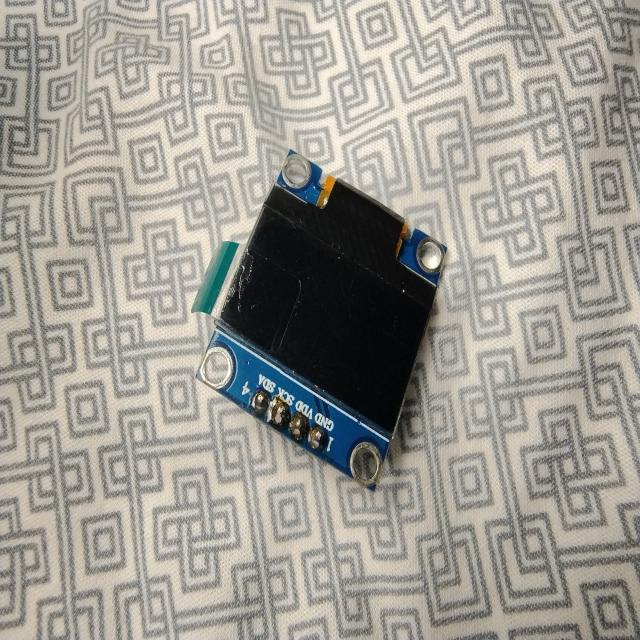oled: (184, 138, 459, 504)
